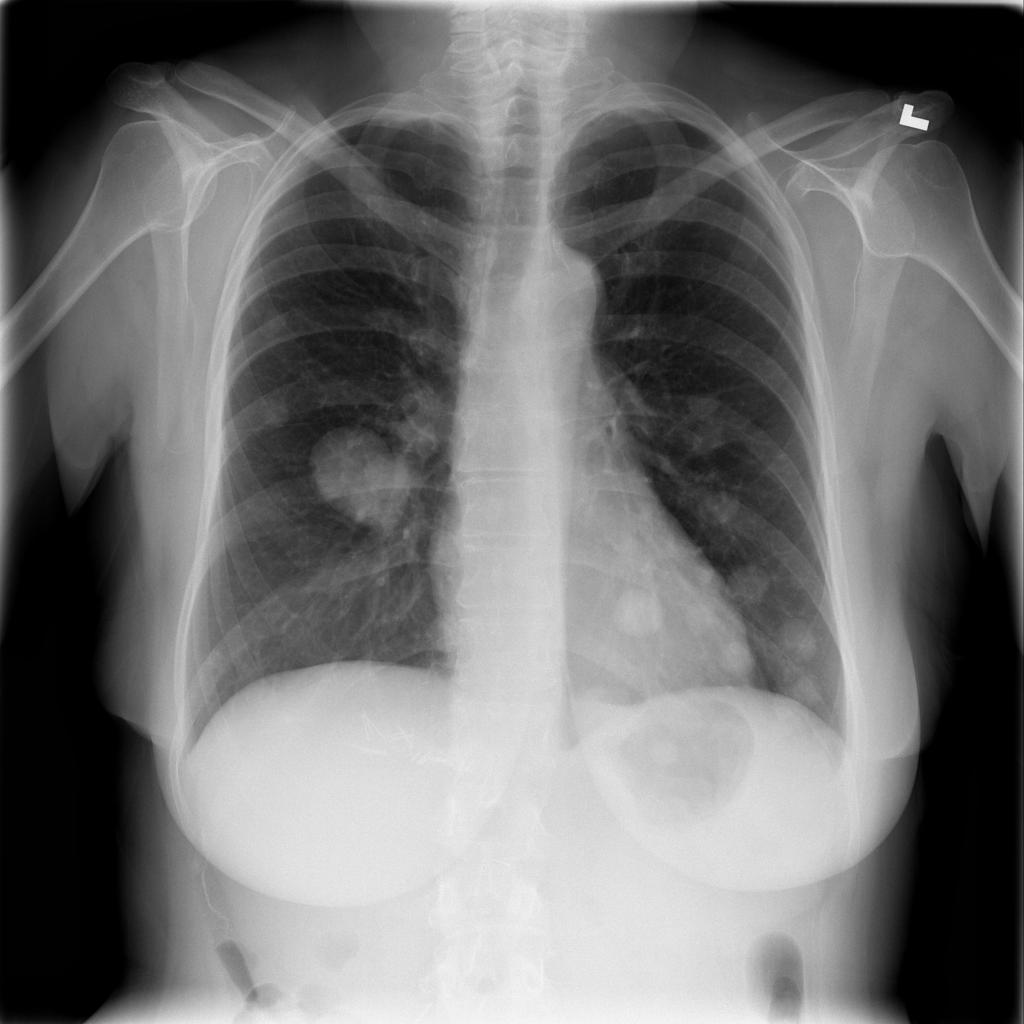nodule: (298, 411, 424, 536), (564, 673, 641, 746), (672, 385, 742, 463), (761, 604, 832, 674), (719, 547, 783, 623), (604, 576, 673, 646), (689, 475, 759, 541), (672, 558, 739, 623), (682, 371, 735, 424), (775, 663, 830, 714), (249, 296, 301, 346), (249, 386, 298, 439), (643, 728, 695, 776), (693, 621, 742, 670), (712, 633, 760, 682)
